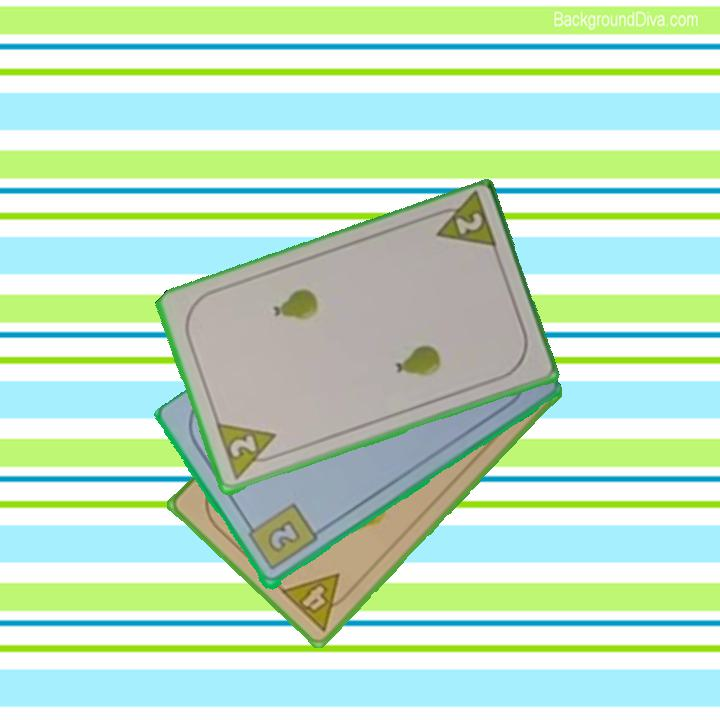2b: (242, 500, 320, 574)
2p: (426, 191, 500, 254), (212, 420, 285, 483)
4p: (277, 569, 358, 634)
